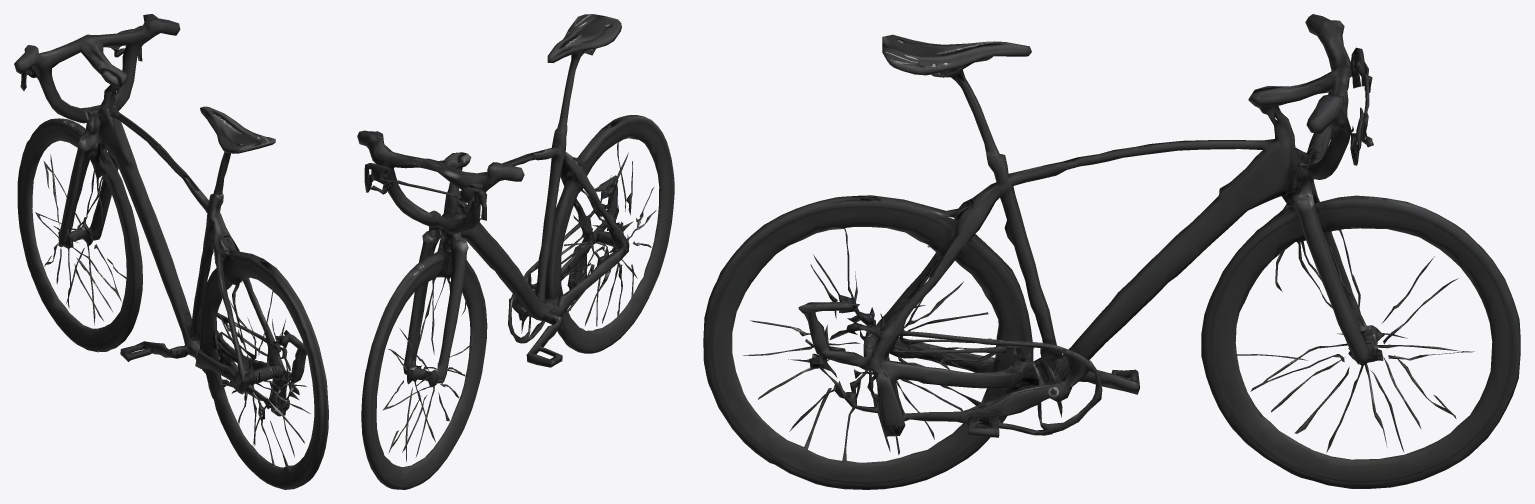
Rendered from Black_Stealth_Bicycle_0421165302_texture.glb.
3 renders of one model, left to right at view 1: azimuth 30°, elevation 25°; view 2: azimuth 150°, elevation 25°; view 3: azimuth 270°, elevation 25°, orthographic. The views are drawn at different scales.
Bounding box in the file's own units: 0.6188 × 1.2 × 2.
Materials: 1 (1 with a texture image).
